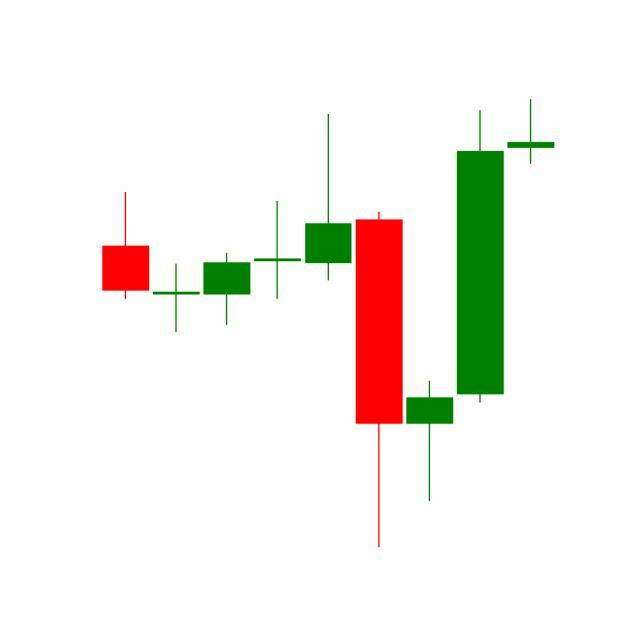Hikkake Pattern: (252, 106, 506, 549)
